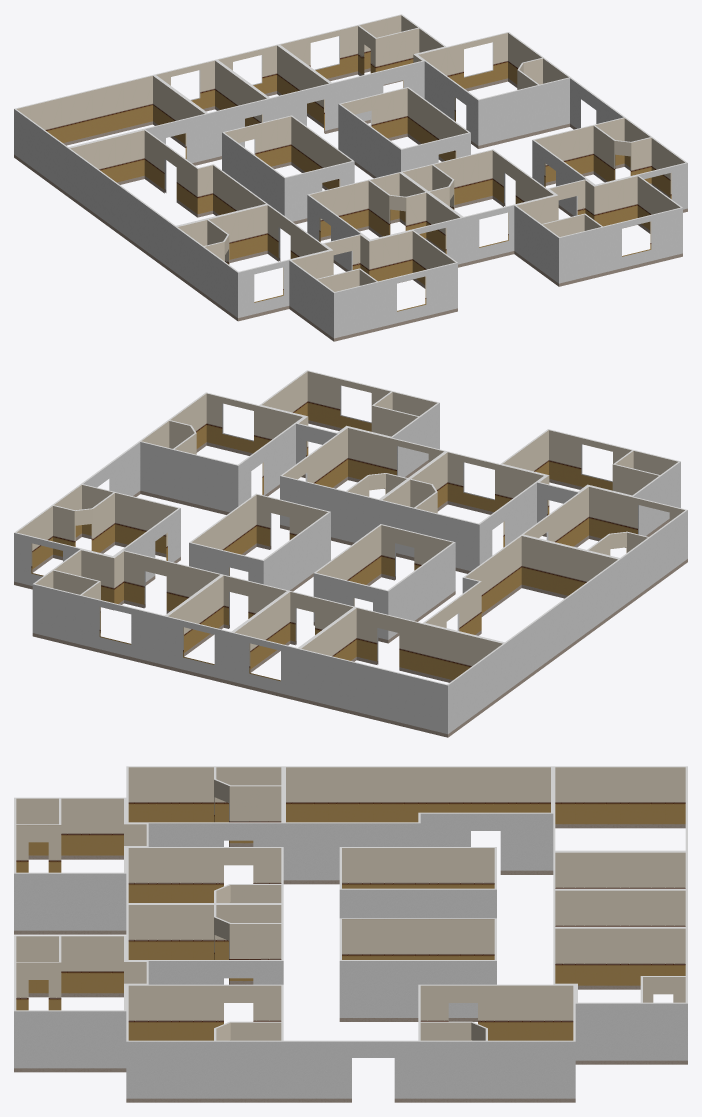
File: hospital_structure.dae
3 views of the same model, one above another, from view 1: azimuth 30°, elevation 25°; view 2: azimuth 150°, elevation 25°; view 3: azimuth 270°, elevation 25° (orthographic). The views are drawn at different scales.
Parts seen in each view (by area): view 1: Cube 1.096; view 2: Cube 1.096; view 3: Cube 1.096.
Boxes of the visible parts, box(x1,y1,x2,y2) form: Cube 1.096: box(14, 14, 687, 341); Cube 1.096: box(14, 370, 687, 737); Cube 1.096: box(14, 766, 687, 1102).
Size of the model in its own units: 29 by 30 by 3.
